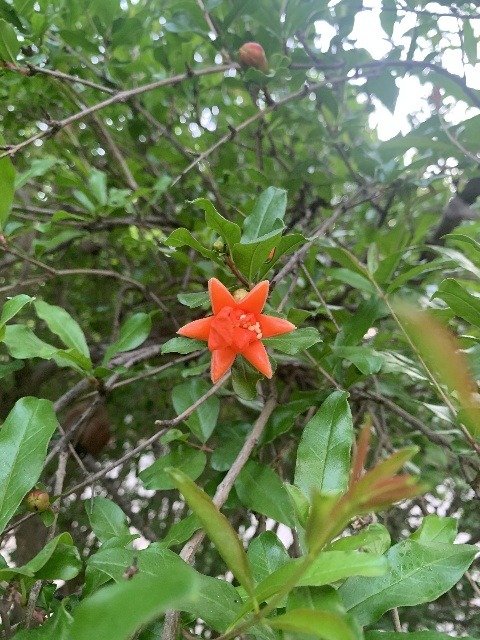bud: (238, 41, 268, 73), (25, 489, 49, 513)
flower: (176, 277, 296, 383)
